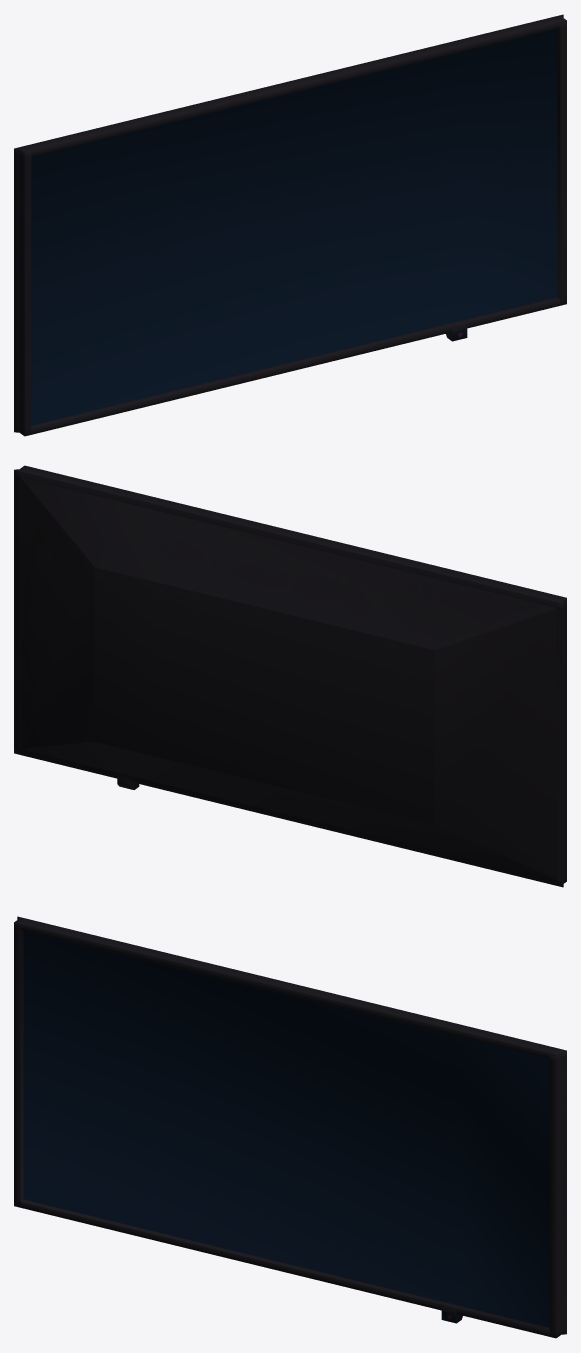
The model's file is televisor_modelo.glb.
3 views of the same model, one above another, from view 1: azimuth 30°, elevation 25°; view 2: azimuth 150°, elevation 25°; view 3: azimuth 330°, elevation 25° (orthographic).
Visible parts, largest first — view 1: g; view 2: g; view 3: g.
Boxes of the visible parts, x1,y1,x2,y2 form: g: [14, 14, 566, 436]; g: [14, 465, 566, 887]; g: [14, 916, 566, 1338].
Size of the model in its own units: 2 by 1.02 by 0.1946.
1 material, 1 textured.
